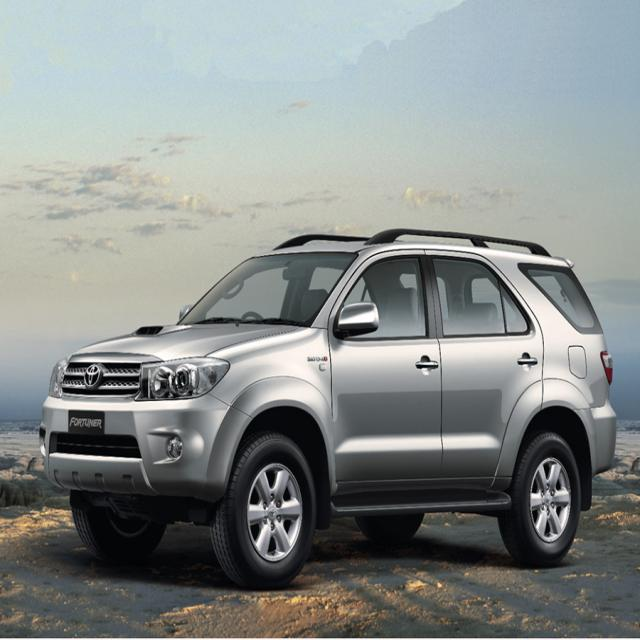light_vehicle: (38, 228, 618, 590)
